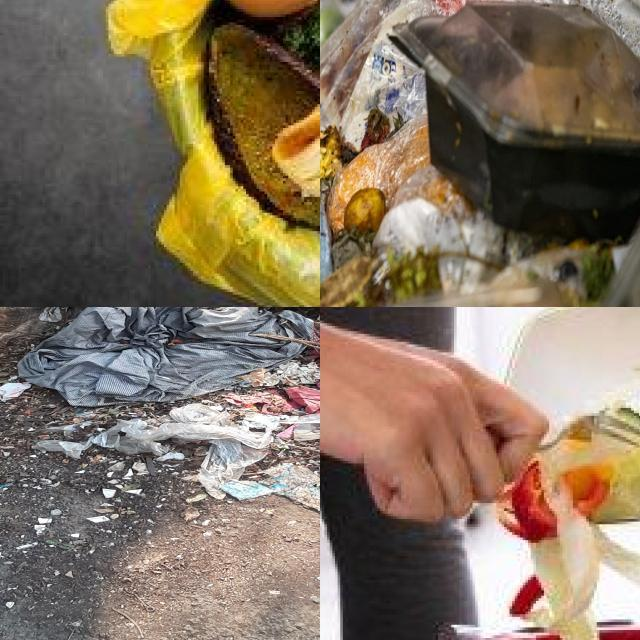Disposable: (391, 1, 640, 247)
Garbage: (320, 0, 640, 307), (17, 307, 320, 511), (206, 0, 320, 226)
Plastic: (17, 307, 312, 406)
Plastic_Bag: (320, 0, 640, 146), (34, 404, 320, 500), (286, 388, 320, 414)
